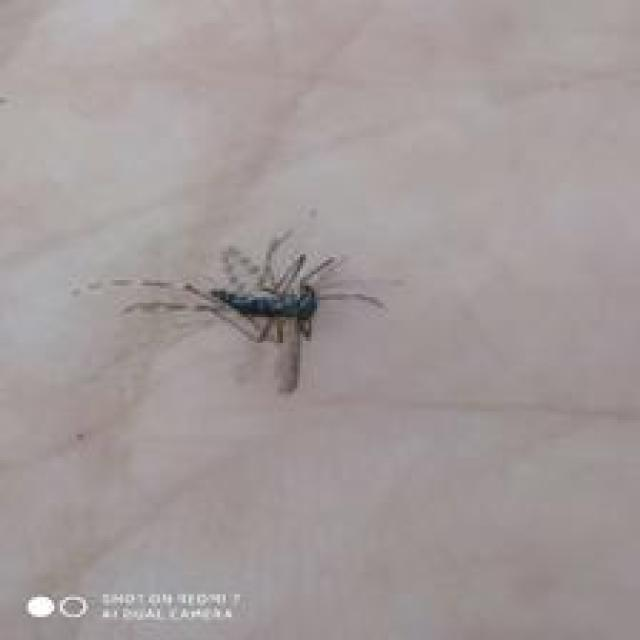Aedes albopictus: (73, 226, 387, 394)
